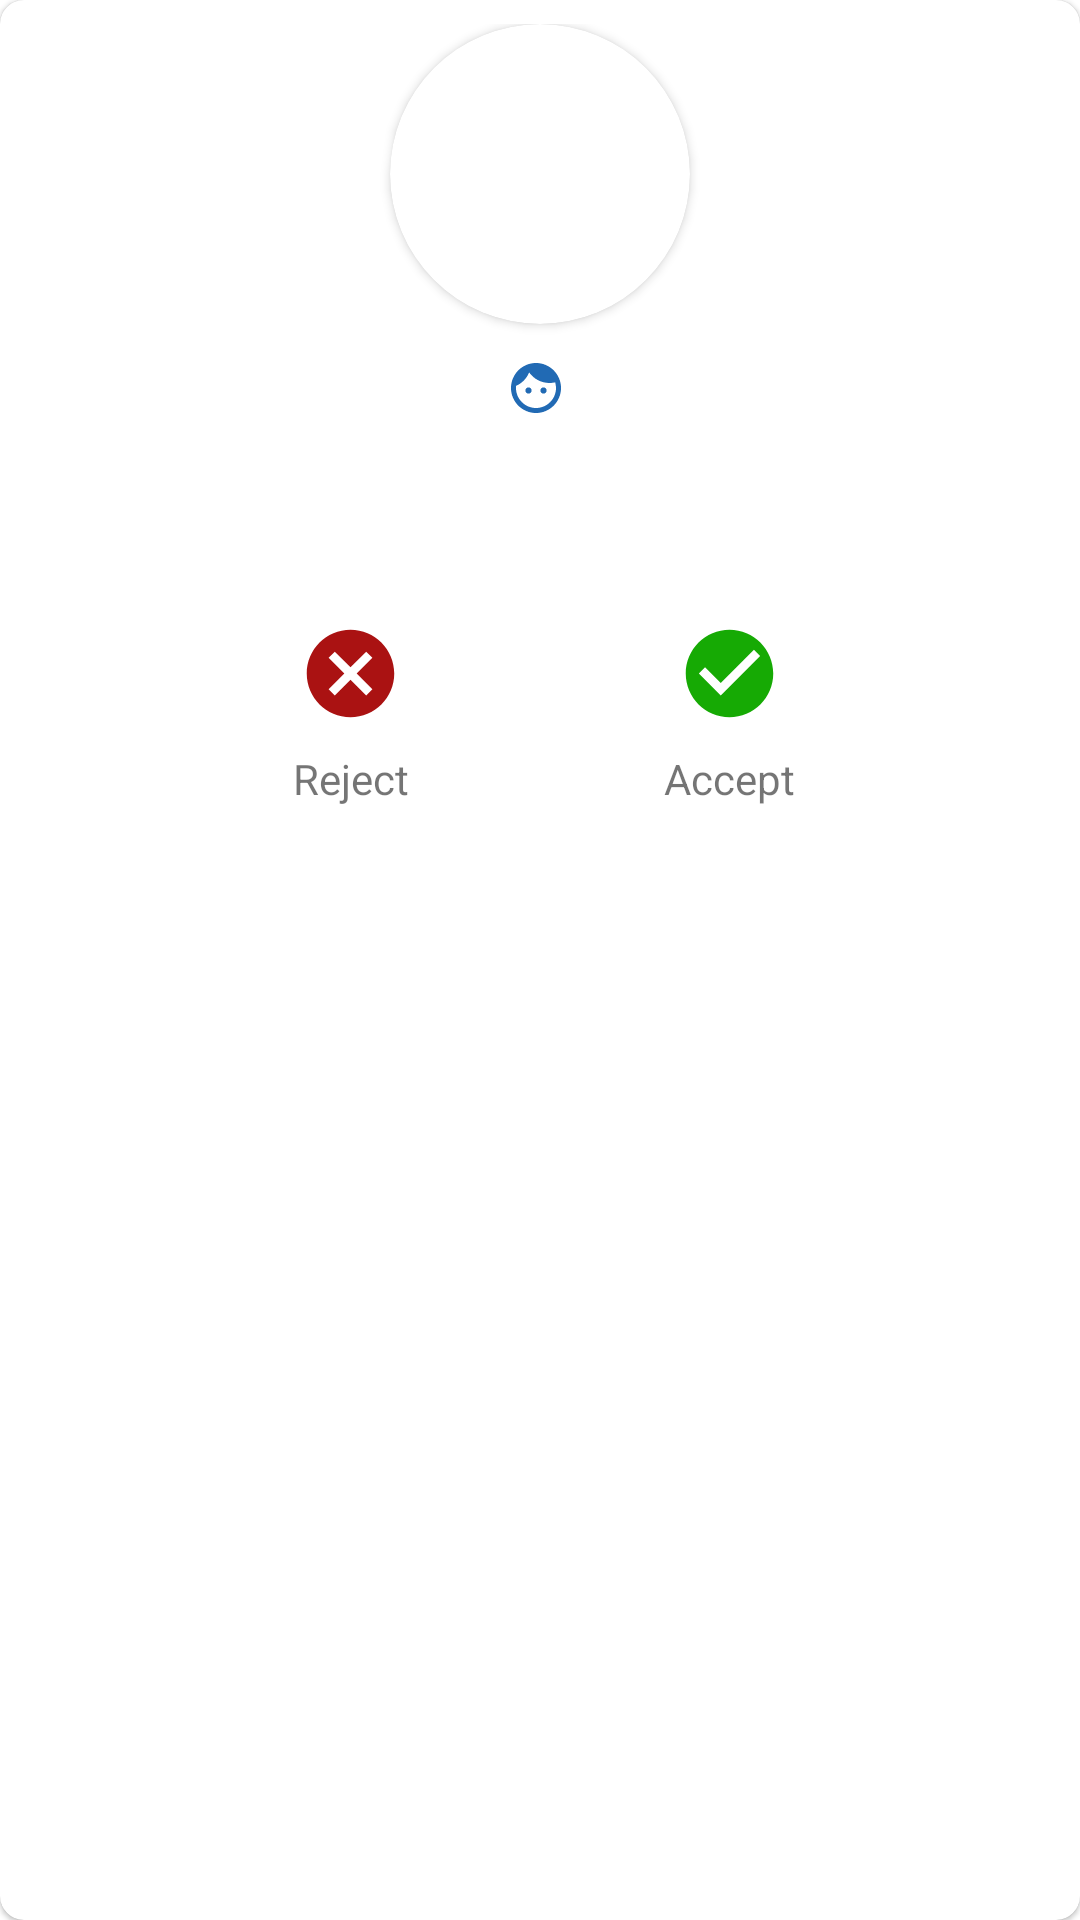

Screen size 1080px x 1920px. Icon name, then its center in pixels as point (x, y):
decline: point (350, 673)
